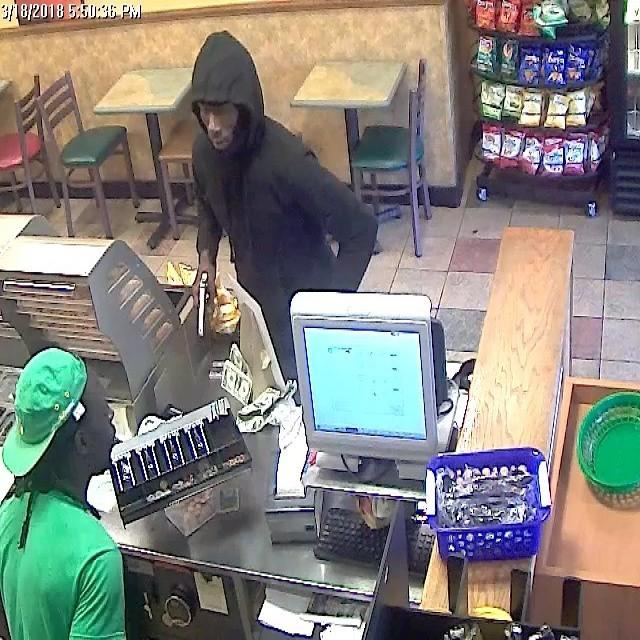weapon: (186, 263, 223, 340)
